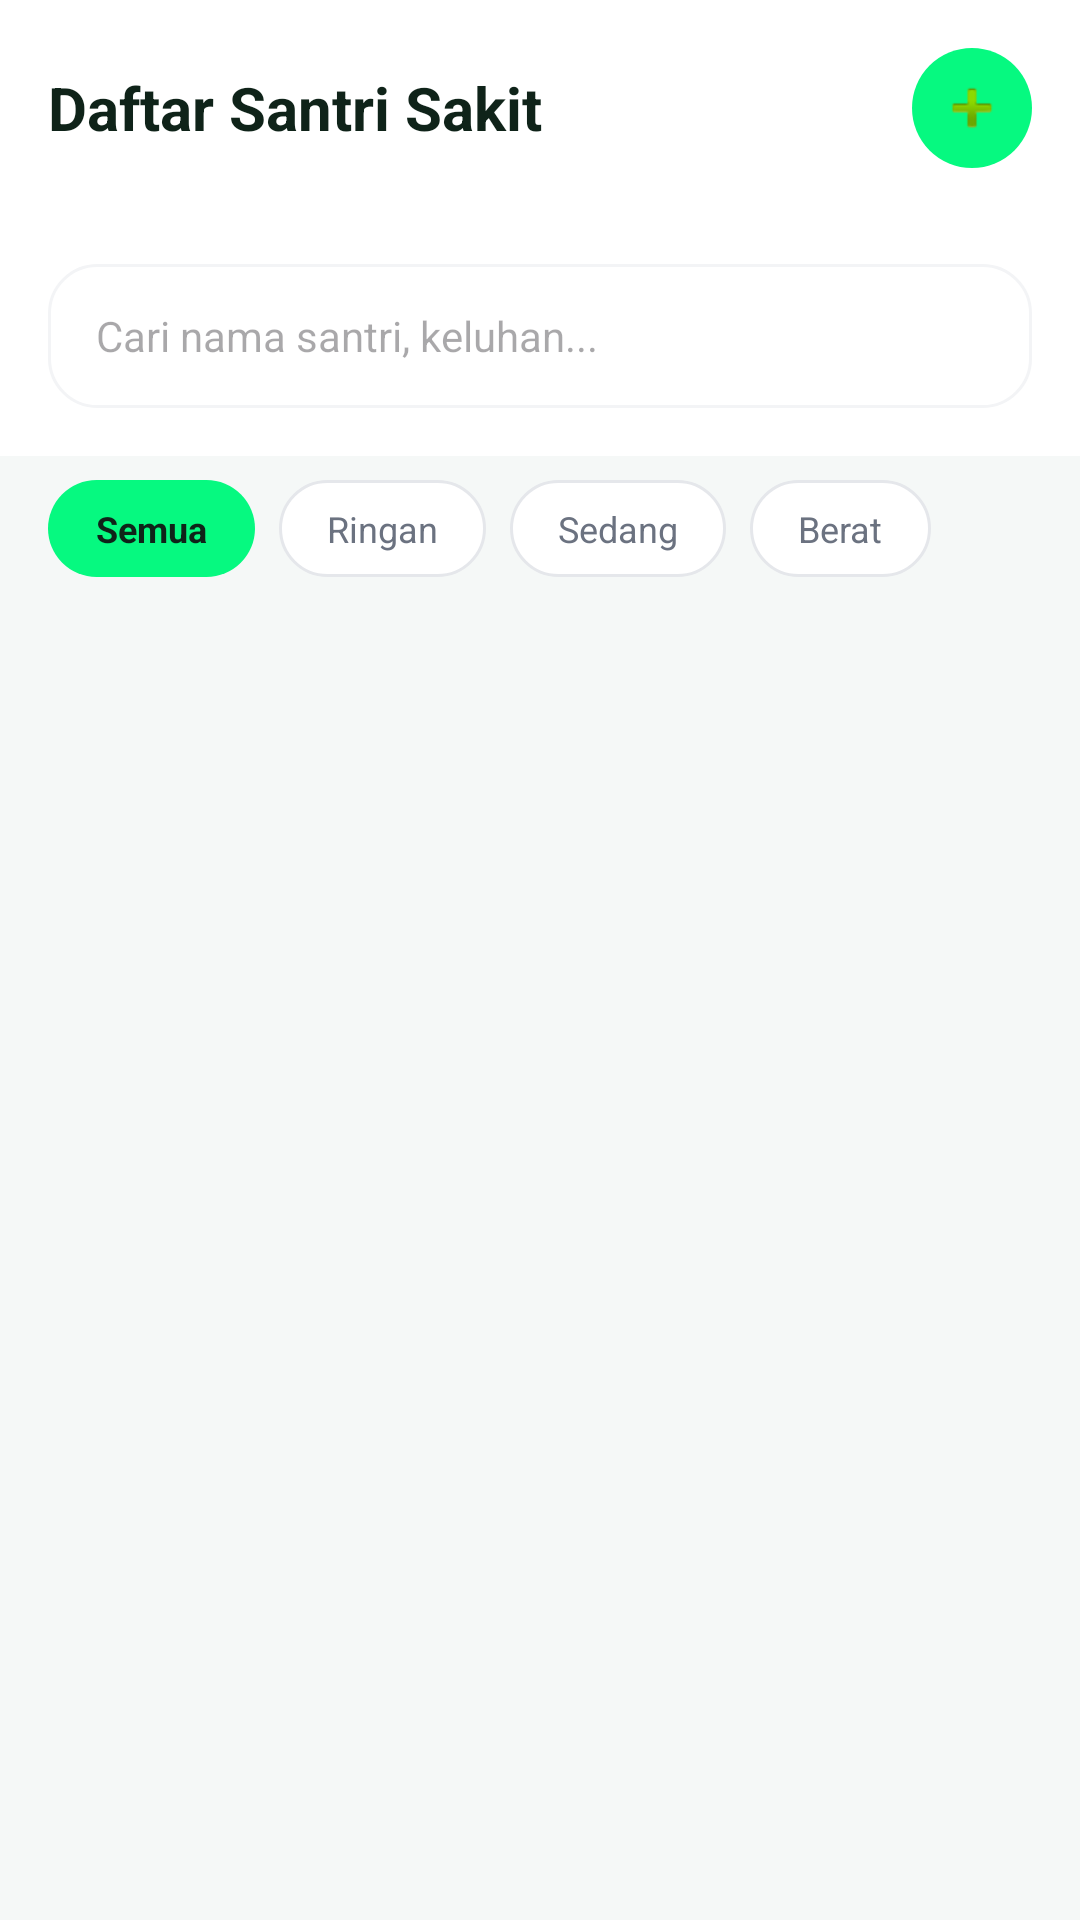

Icons on this 1080 × 1920 Android screen, each with its box as detection(x1, y1, x2, y2):
add: detection(912, 48, 1032, 168)
